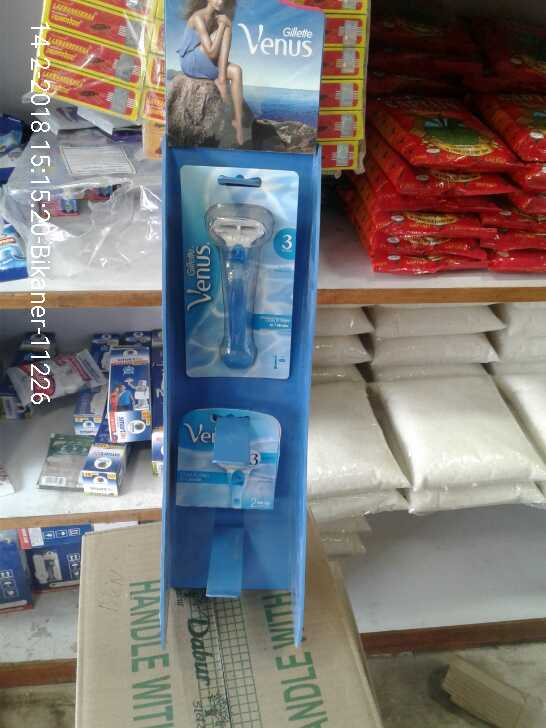venus: (174, 160, 298, 383), (179, 407, 282, 514)
